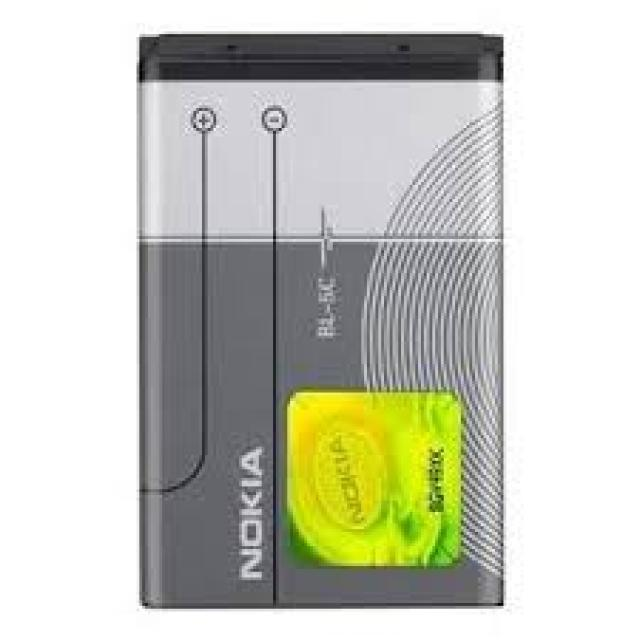Battery: (89, 19, 518, 624)
